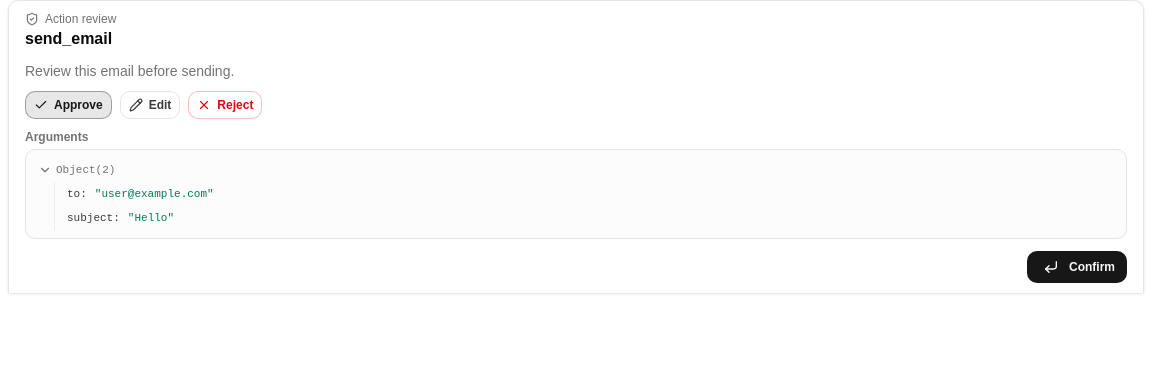
HITLApprovalPanel › validates edited args as a JSON object
This screenshot has width=1152, height=366.
Click the button "Edit" at point(150, 105), box [120,91,180,119]
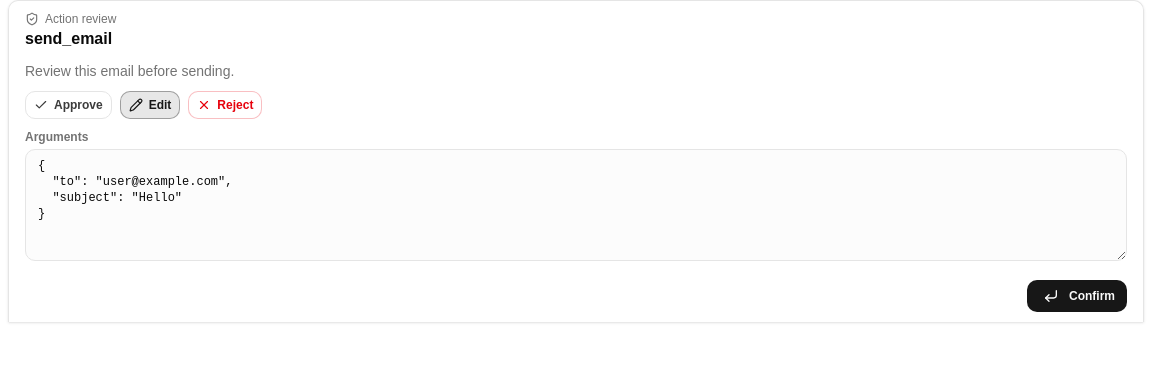
Replace the text in the text box labelled "Arguments" with "[1]" at point(576, 205), box [25,149,1127,261]
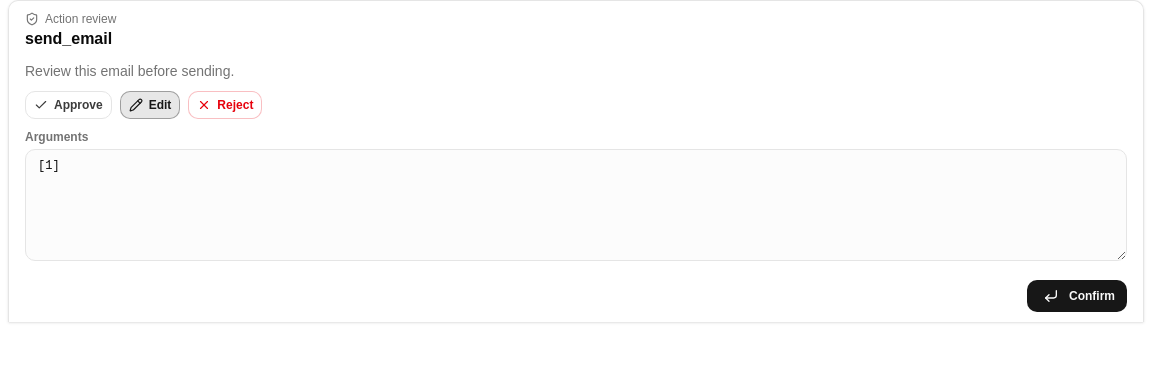
Click the button "Confirm" at point(1077, 296), box [1027,280,1127,312]
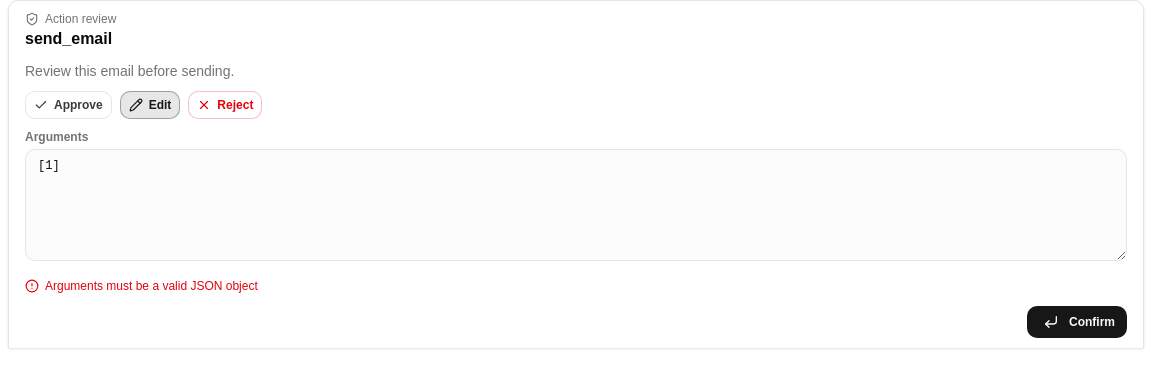
Now the text "Arguments must be a valid JSON object" is shown, box [45,278,258,294]
